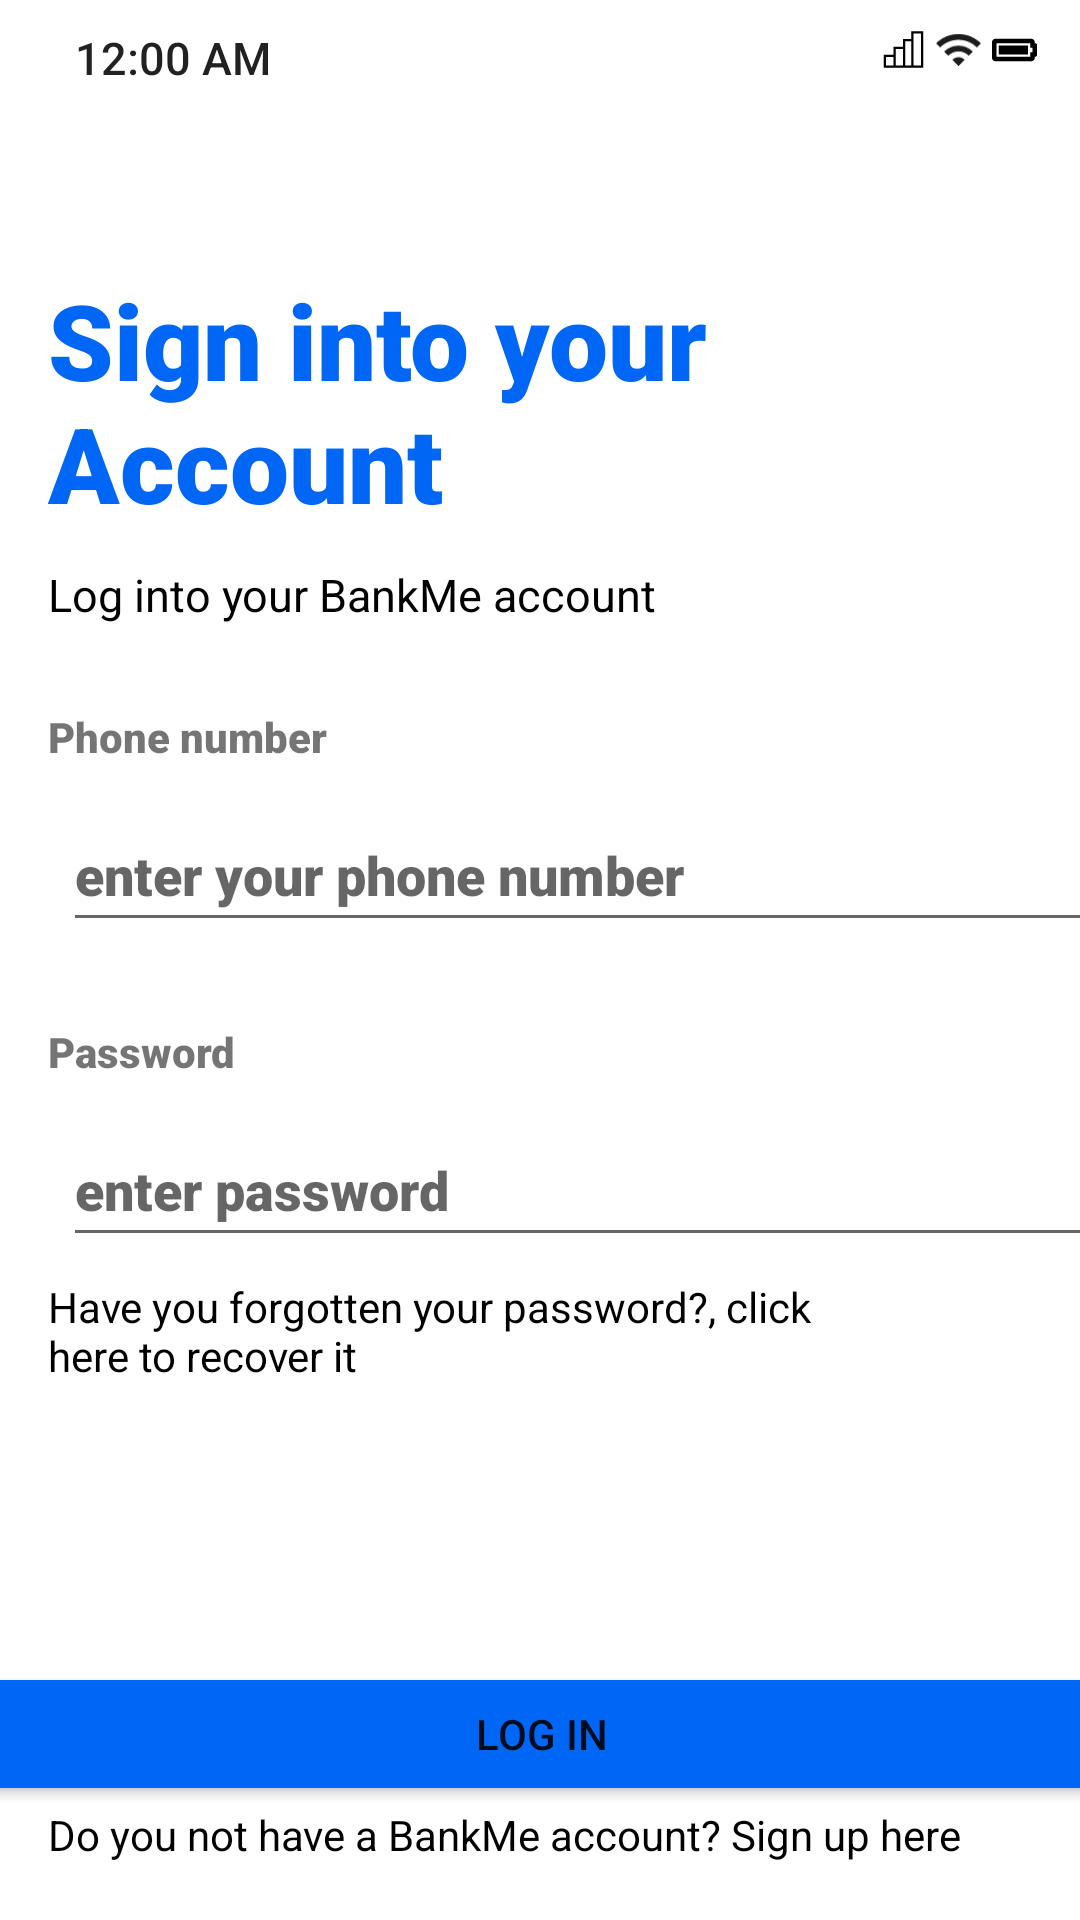

Screen size 1080x1920. Icon name, then its box in pixels as {"left": x1, "top": y1, "right": x2, "bottom": y2}:
battery: {"left": 992, "top": 38, "right": 1037, "bottom": 62}
mobiledata: {"left": 883, "top": 31, "right": 924, "bottom": 68}
wifi: {"left": 936, "top": 34, "right": 981, "bottom": 66}
